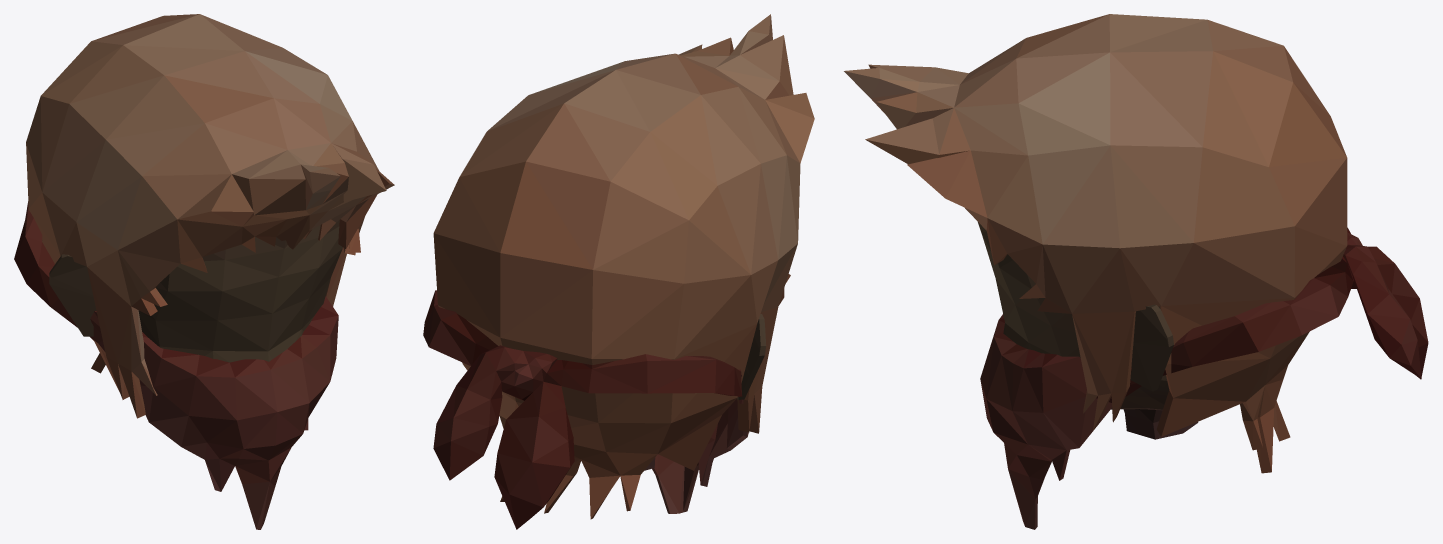
Rendered from helm_darkskin_standard_blonde_bandana.fbx.
The picture shows the model from 3 angles, left to right: view 1: azimuth 30°, elevation 25°; view 2: azimuth 150°, elevation 25°; view 3: azimuth 270°, elevation 25°; orthographic projection. The views are drawn at different scales.
Visible parts, largest first — view 1: helm_darkskin_standard_blonde_bandana; view 2: helm_darkskin_standard_blonde_bandana; view 3: helm_darkskin_standard_blonde_bandana.
Boxes of the visible parts, bbox=[...] form: helm_darkskin_standard_blonde_bandana: bbox=[14, 14, 394, 529]; helm_darkskin_standard_blonde_bandana: bbox=[423, 14, 814, 529]; helm_darkskin_standard_blonde_bandana: bbox=[844, 14, 1428, 529].
Bounding box in the file's own units: 1.13 × 1.66 × 1.8.
